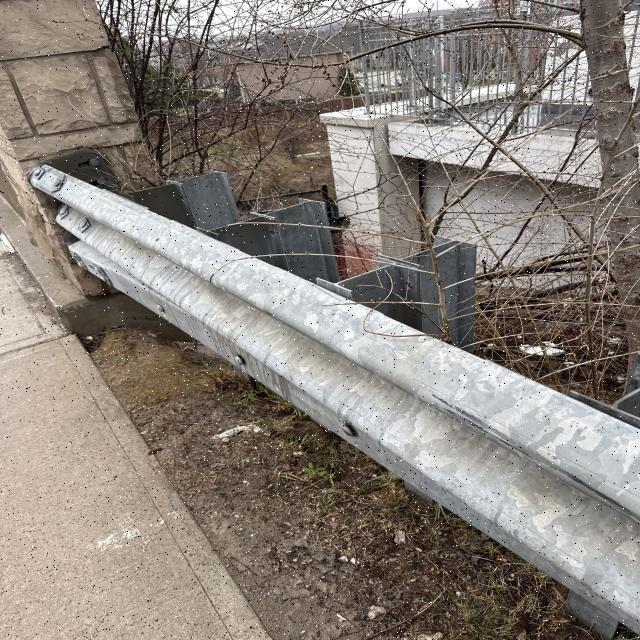Guard rail: (21, 184, 611, 610)
